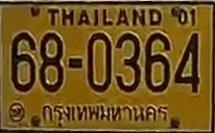0: (87, 32, 111, 91)
3: (115, 32, 140, 91)
4: (174, 32, 199, 92)
6: (144, 32, 170, 92), (11, 32, 35, 91)
8: (39, 32, 63, 91)
BKK: (38, 99, 169, 128)
